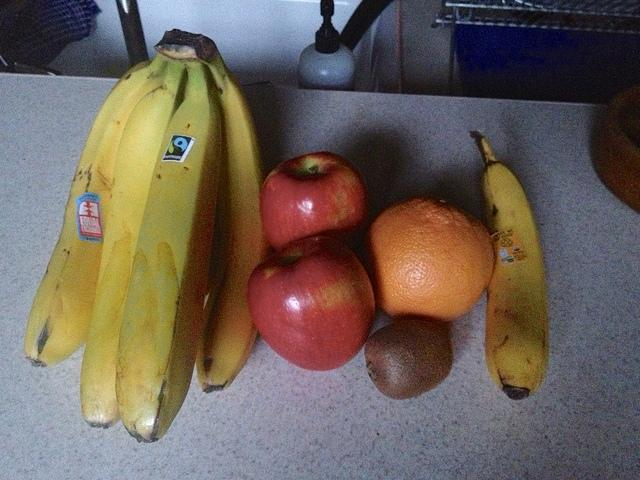apple: (249, 237, 376, 373), (258, 151, 371, 251)
banana: (23, 52, 166, 368), (115, 59, 221, 443), (81, 57, 186, 428), (195, 55, 277, 394), (480, 138, 551, 401)
kiwi: (364, 320, 452, 399)
orange: (368, 199, 497, 324)
